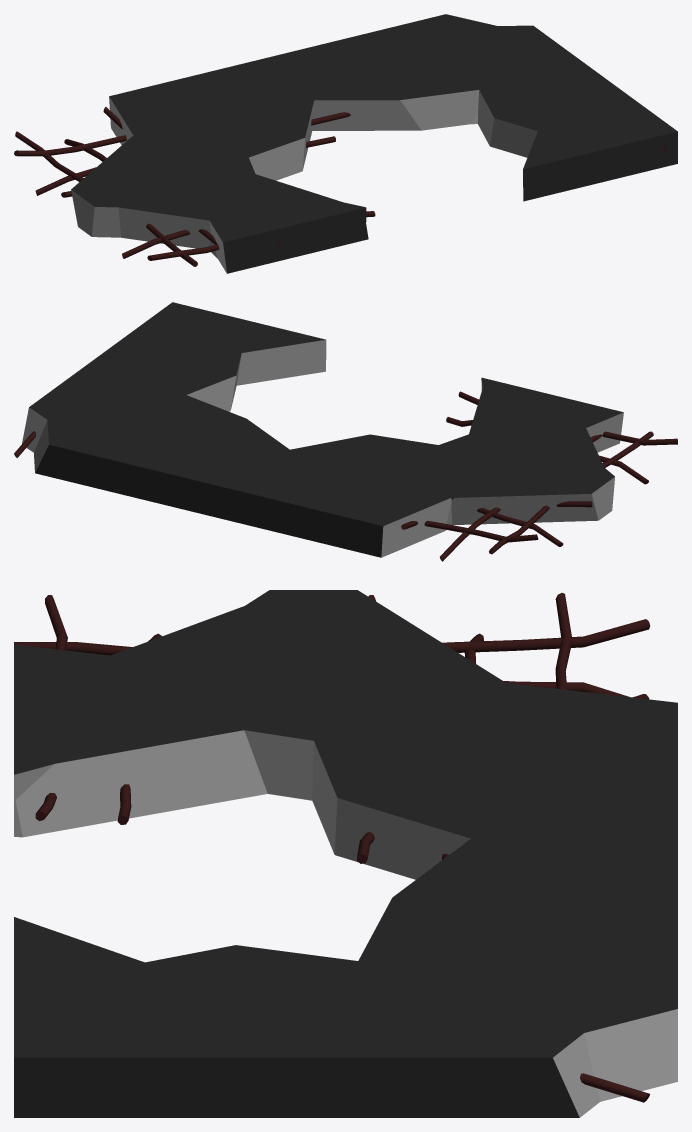
File: P_MurCasséPorte.fbx
3 views of the same model, one above another, from view 1: azimuth 30°, elevation 25°; view 2: azimuth 150°, elevation 25°; view 3: azimuth 270°, elevation 25° (orthographic). The views are drawn at different scales.
Parts seen in each view (by area): view 1: P_MurCasséPorte; view 2: P_MurCasséPorte; view 3: P_MurCasséPorte.
Boxes of the visible parts, bbox=[...] form: P_MurCasséPorte: bbox=[14, 14, 677, 273]; P_MurCasséPorte: bbox=[14, 302, 677, 561]; P_MurCasséPorte: bbox=[14, 590, 677, 1117].
Bounding box in the file's own units: 505 × 30 × 300.
